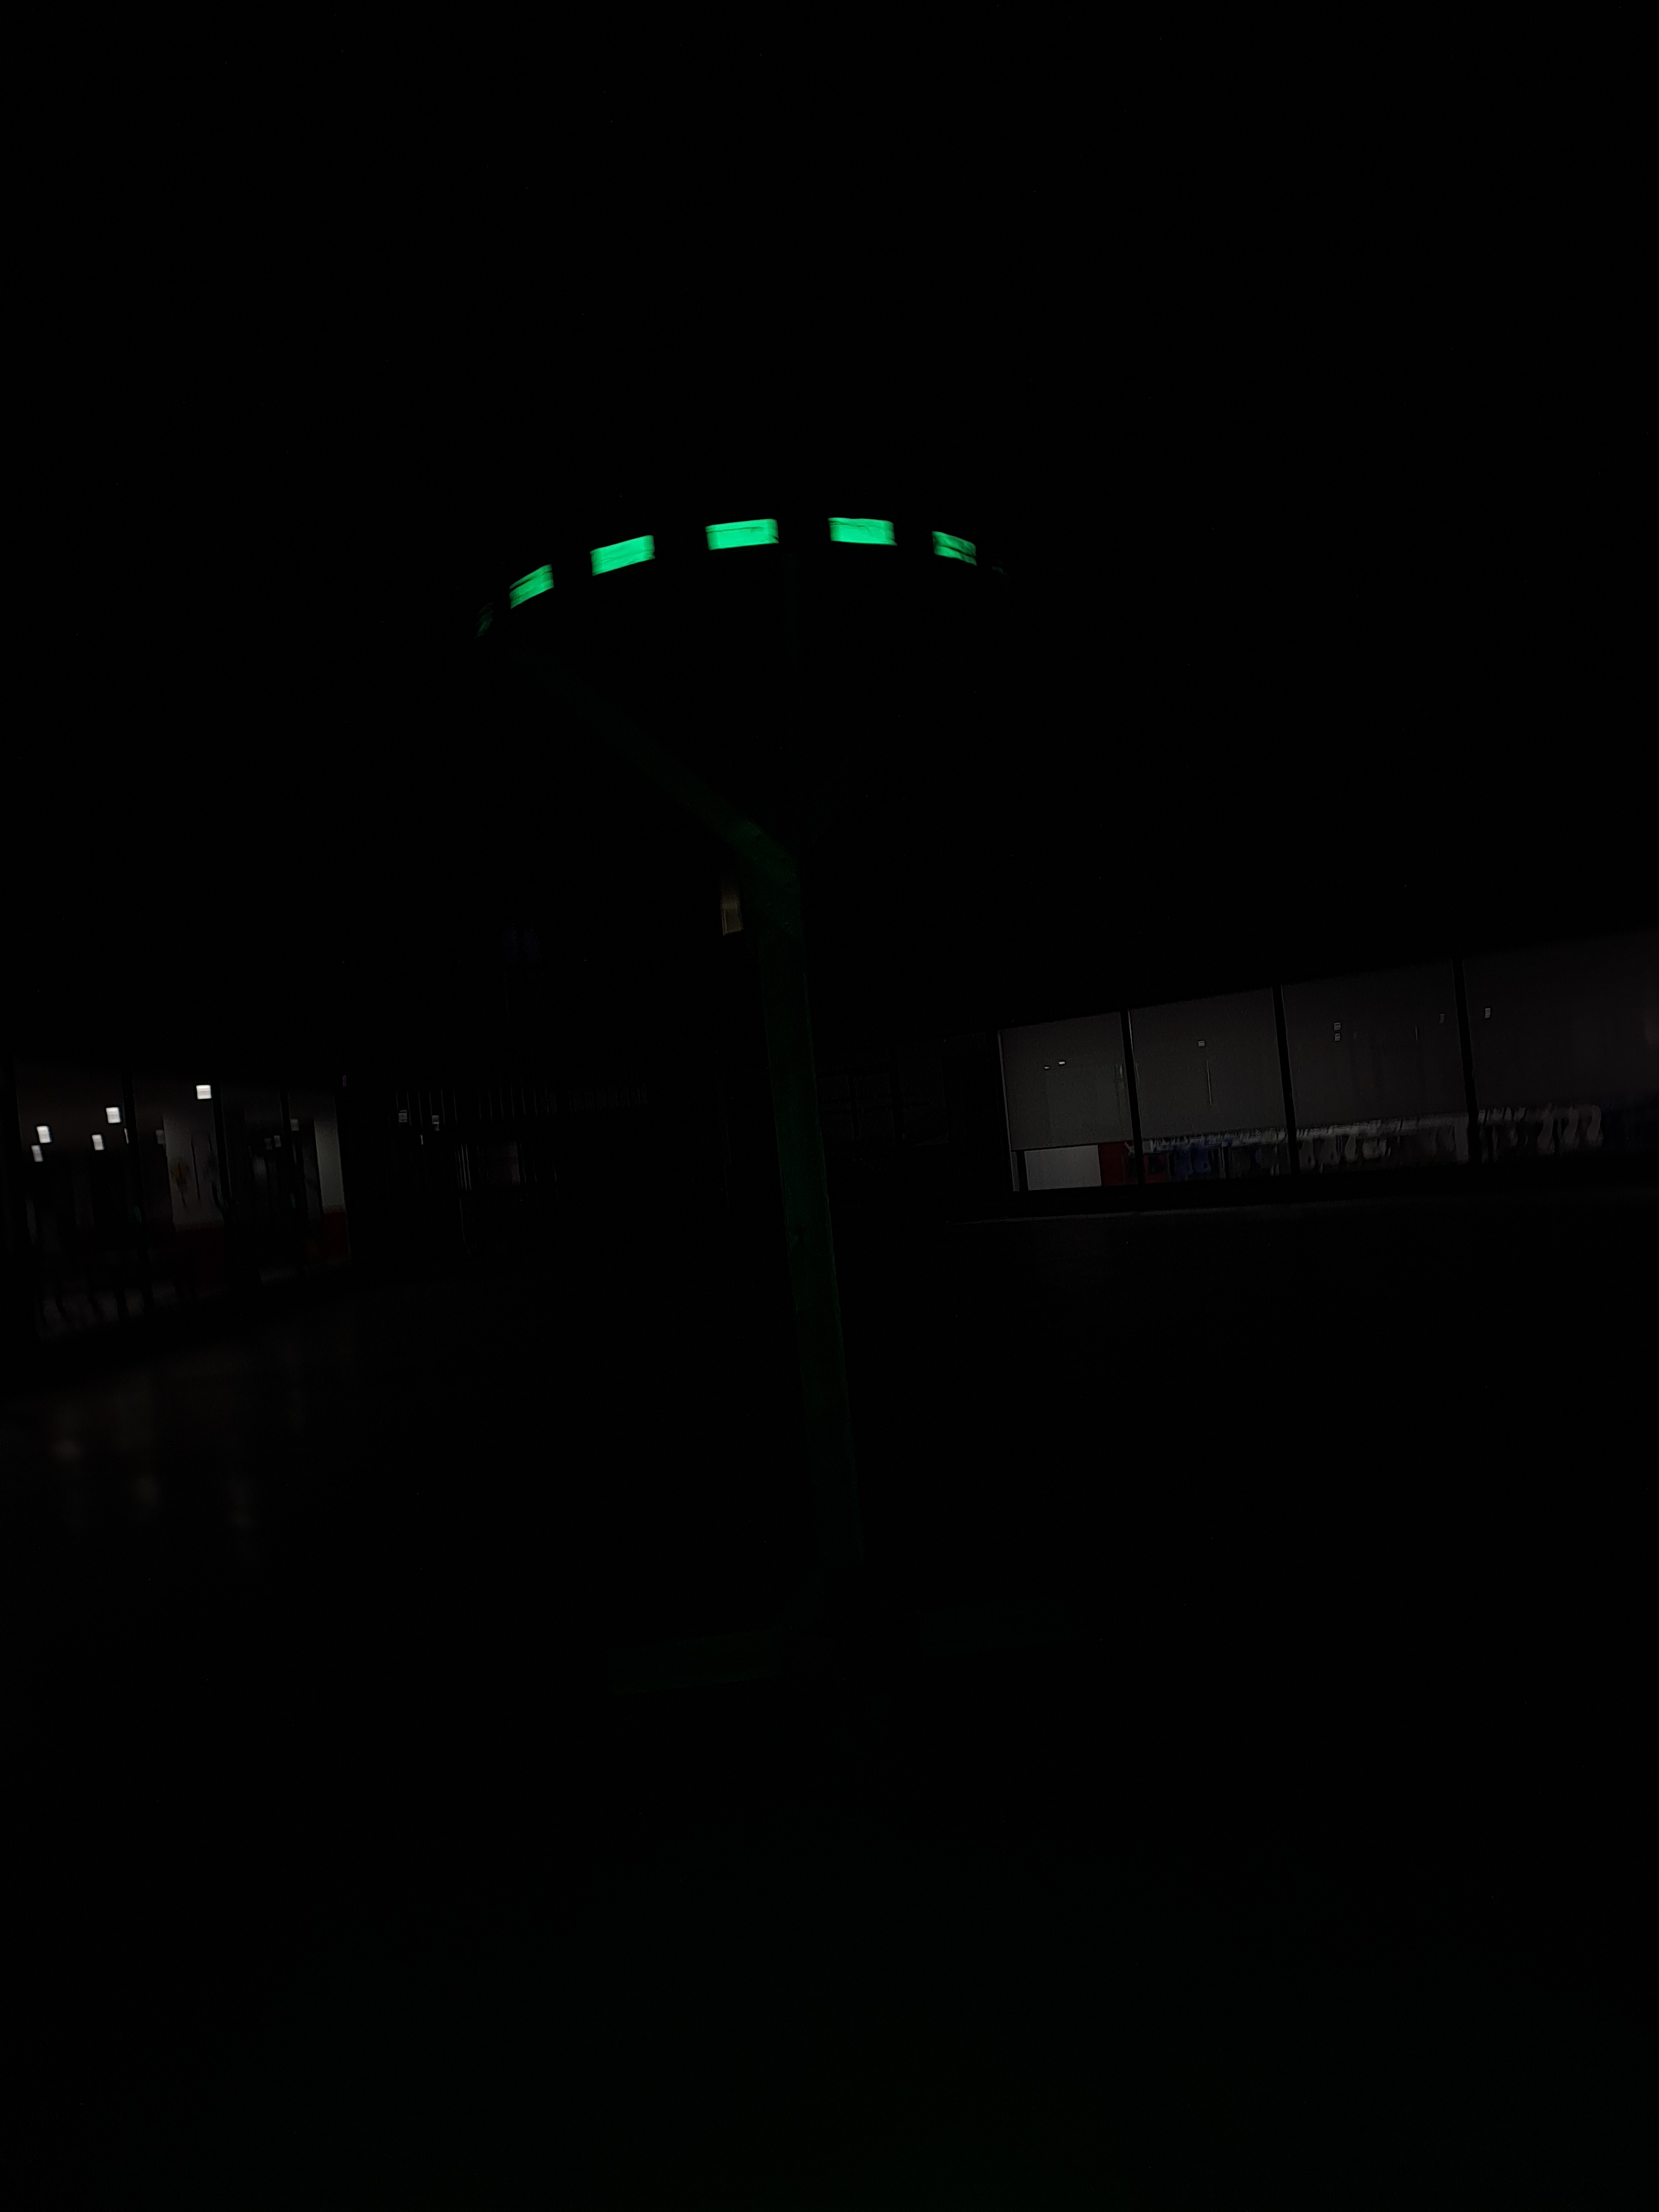hoop: (504, 503, 983, 618)
